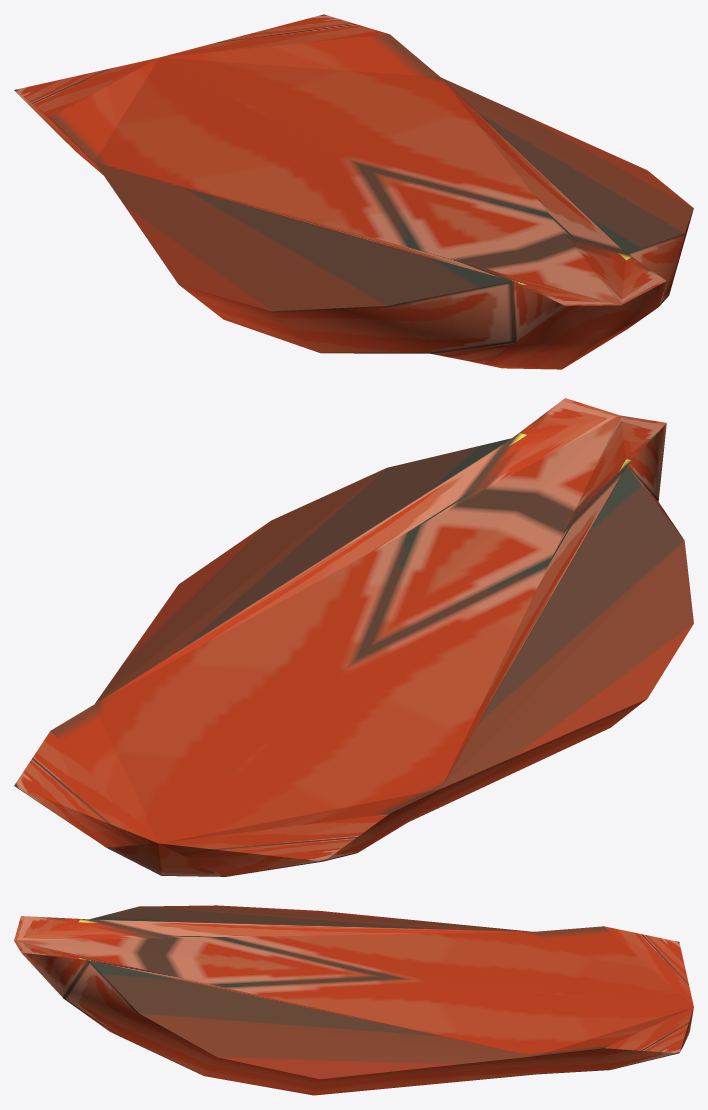
The model's file is Boqt.FBX.
3 views of the same model, one above another, from view 1: azimuth 30°, elevation 25°; view 2: azimuth 150°, elevation 25°; view 3: azimuth 270°, elevation 25° (orthographic). The views are drawn at different scales.
Visible parts, largest first — view 1: rdmobj00; view 2: rdmobj00; view 3: rdmobj00.
Part boxes in pixels (x1=…): rdmobj00: x1=14, y1=14, x2=693, y2=369; rdmobj00: x1=14, y1=398, x2=693, y2=876; rdmobj00: x1=14, y1=905, x2=693, y2=1095.
Bounding box in the file's own units: 178 × 63.34 × 303.
